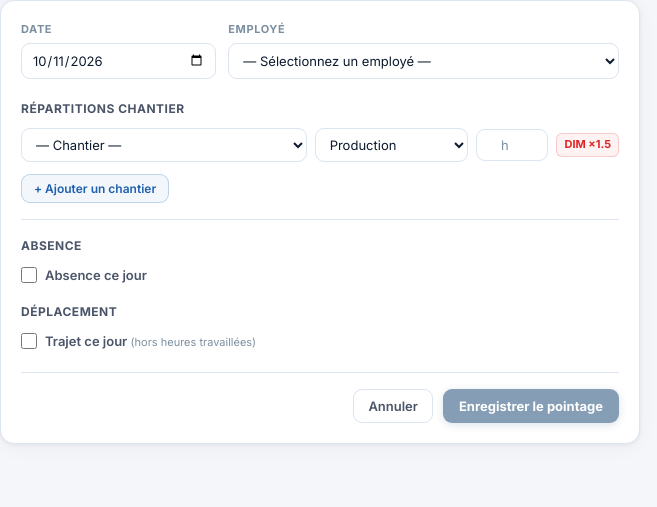
Test: PointageFormulaire — absences › cocher absence CP → section visible avec input heures
The width and height of the screenshot is (657, 507).
Click the checkbox labelled "Absence ce jour" at point(29, 275), box 21,267 -> 37,283
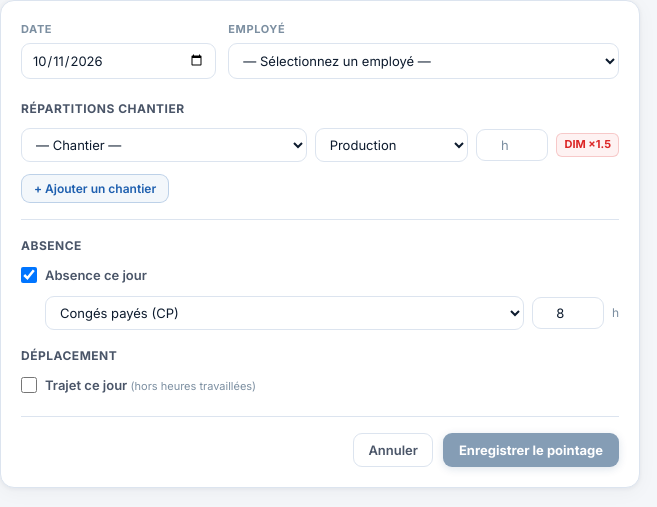
Result: the number field named "Heures d'absence" is shown at 532,297 -> 604,329
